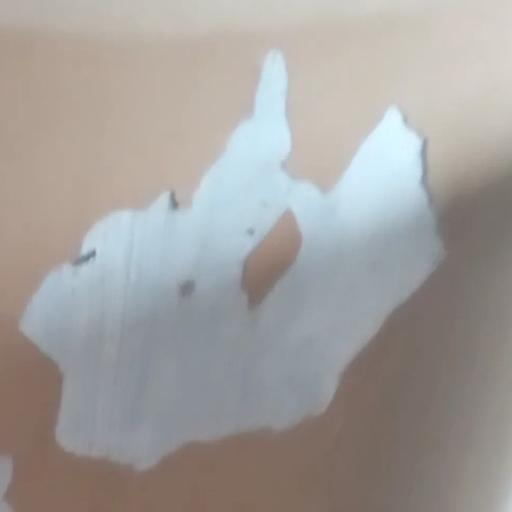peeling: (24, 30, 470, 490), (0, 448, 47, 512)
